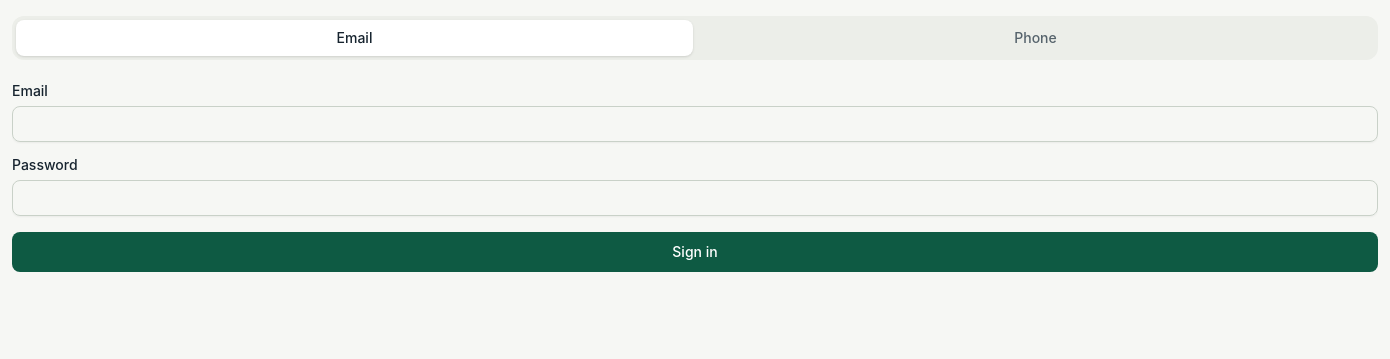
SignInForm: email › tells the user to wait when rate limited
The image size is (1390, 359).
Type "a@b.test" into the field labelled "Email" at (695, 124), box [12, 106, 1378, 142]
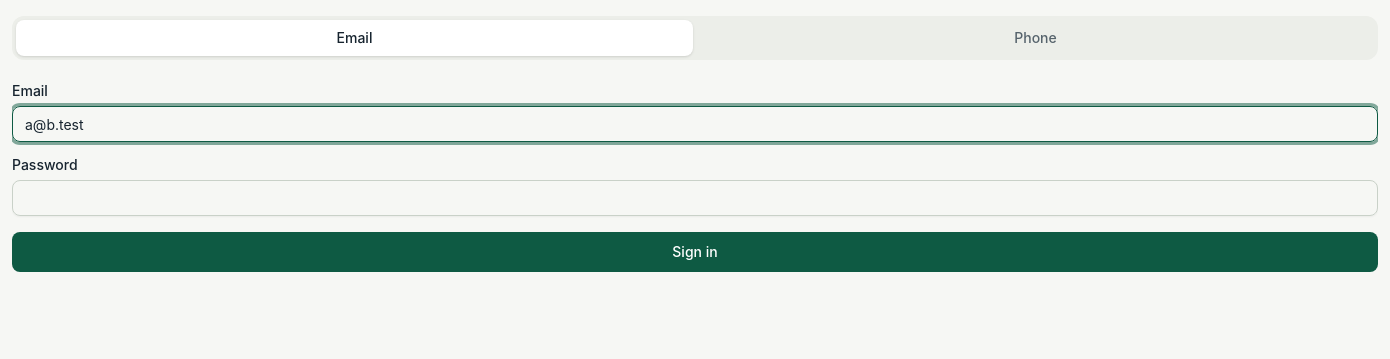
Type "x" into the password field labelled "Password" at (695, 198), box [12, 180, 1378, 216]
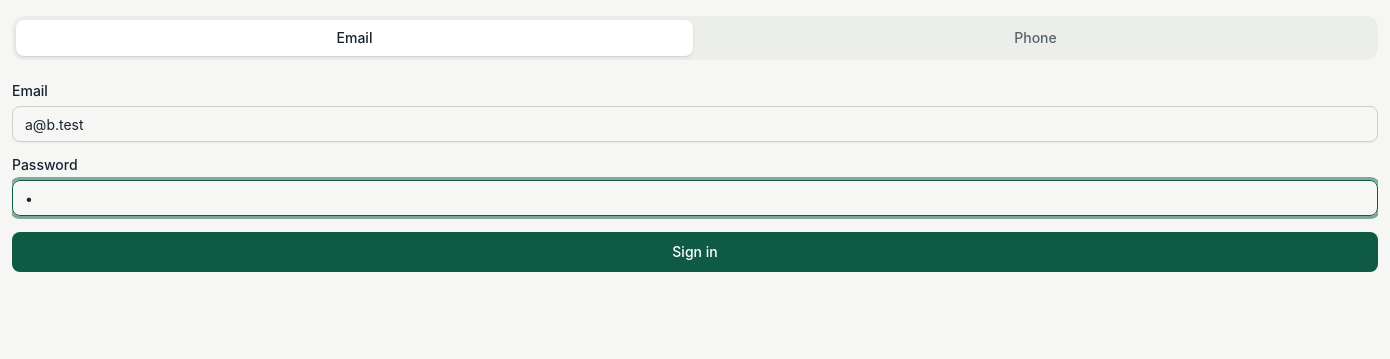
Click the button "Sign in" at (695, 252), box [12, 232, 1378, 272]
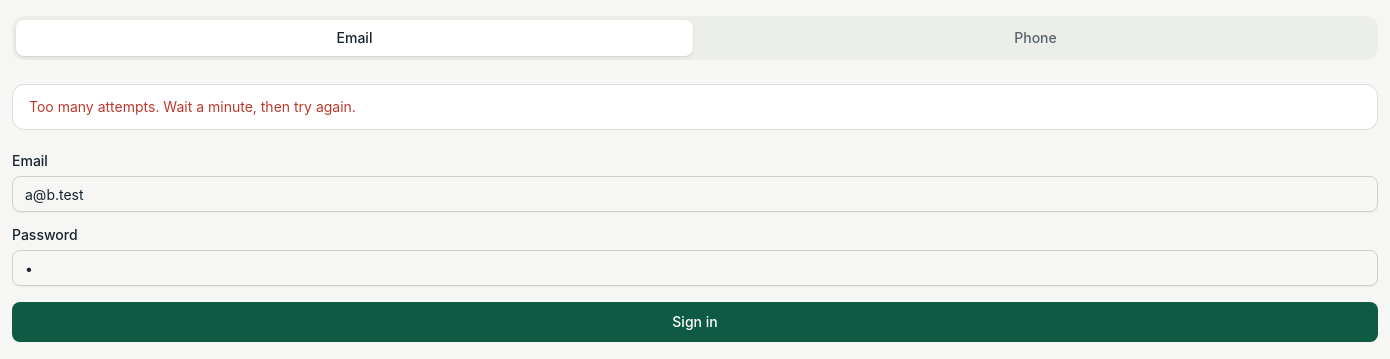
Expected: the message shows "Too many attempts", [29, 98, 356, 115]
